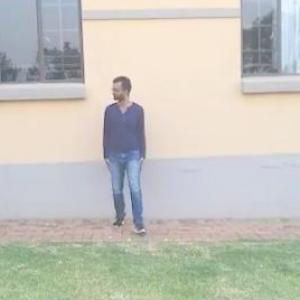follow: (100, 74, 146, 230)
